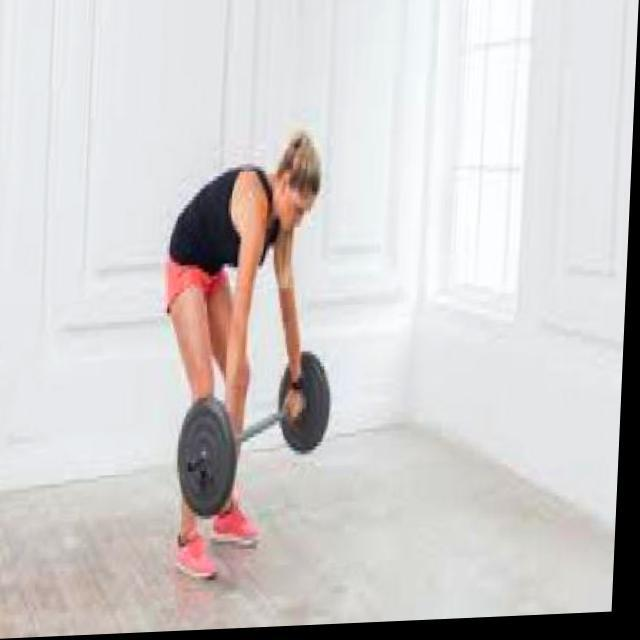barbell: (172, 395, 249, 530)
